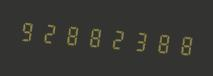eight: (149, 23, 170, 61), (171, 25, 192, 63), (61, 16, 82, 53), (83, 18, 104, 55)
nine: (17, 12, 38, 49)
three: (127, 21, 148, 59)
two: (105, 19, 126, 57), (39, 14, 60, 51)
